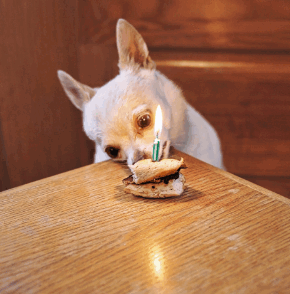Fire: (154, 104, 165, 145)
